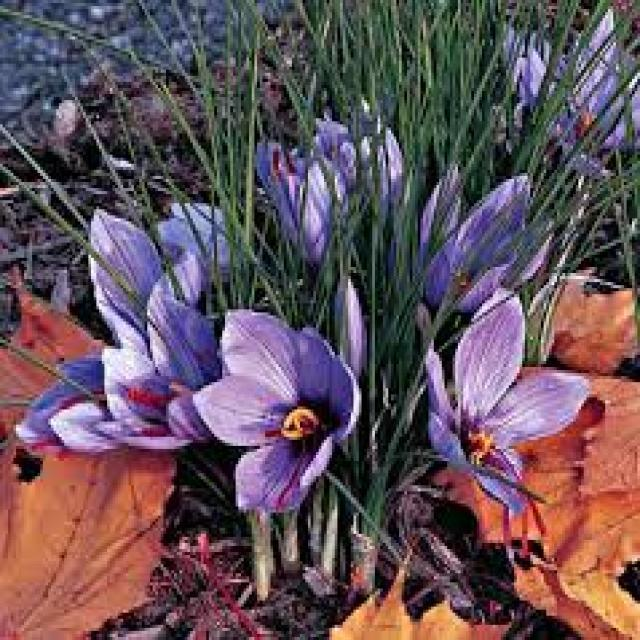Flower: (423, 290, 586, 522), (196, 300, 377, 506), (96, 301, 238, 454), (413, 162, 541, 301)
stigma: (119, 384, 174, 411)
